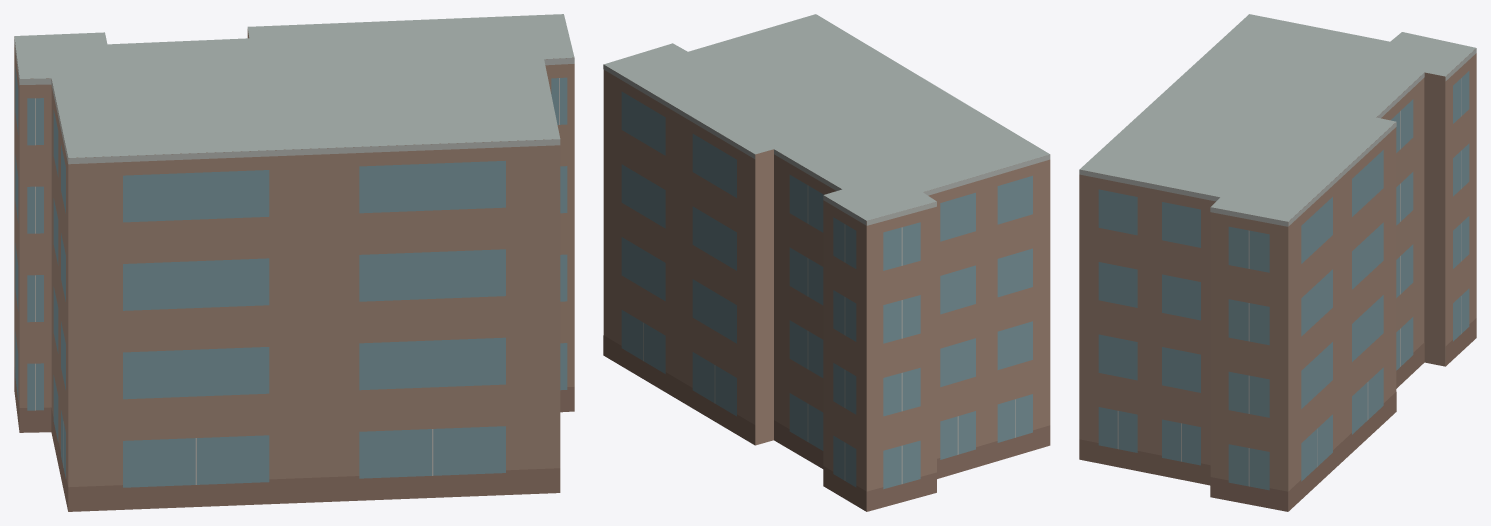
Rendered from survey-upis-32634240.glb.
The picture shows the model from 3 angles, left to right: view 1: azimuth 30°, elevation 25°; view 2: azimuth 150°, elevation 25°; view 3: azimuth 270°, elevation 25°; orthographic projection. The views are drawn at different scales.
Parts seen in each view (by area): view 1: survey-upis-32634240.tmp; view 2: survey-upis-32634240.tmp; view 3: survey-upis-32634240.tmp.
Boxes of the visible parts, x1,y1,x2,y2 form: survey-upis-32634240.tmp: (14,14,574,511); survey-upis-32634240.tmp: (603,14,1050,511); survey-upis-32634240.tmp: (1079,14,1476,511).
Size of the model in its own units: 21.59 by 14.05 by 17.44.
